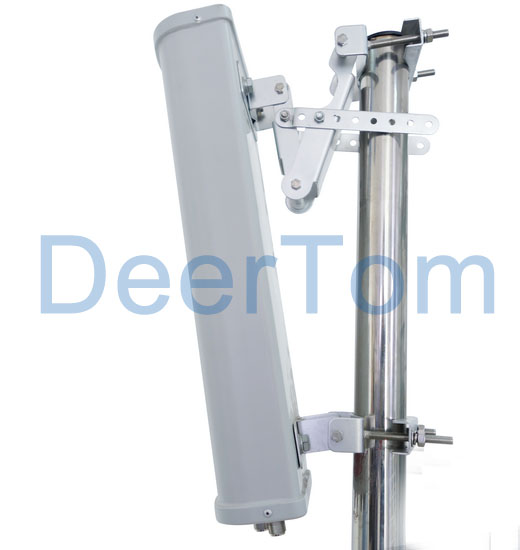sa: (147, 11, 422, 546)
